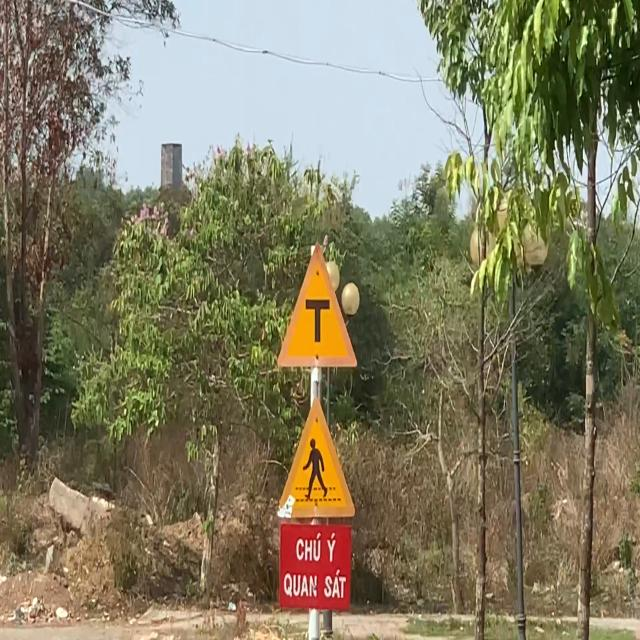Duong giao nhau: (274, 239, 359, 370)
Nguoi di bo cat ngang: (275, 396, 356, 521)
